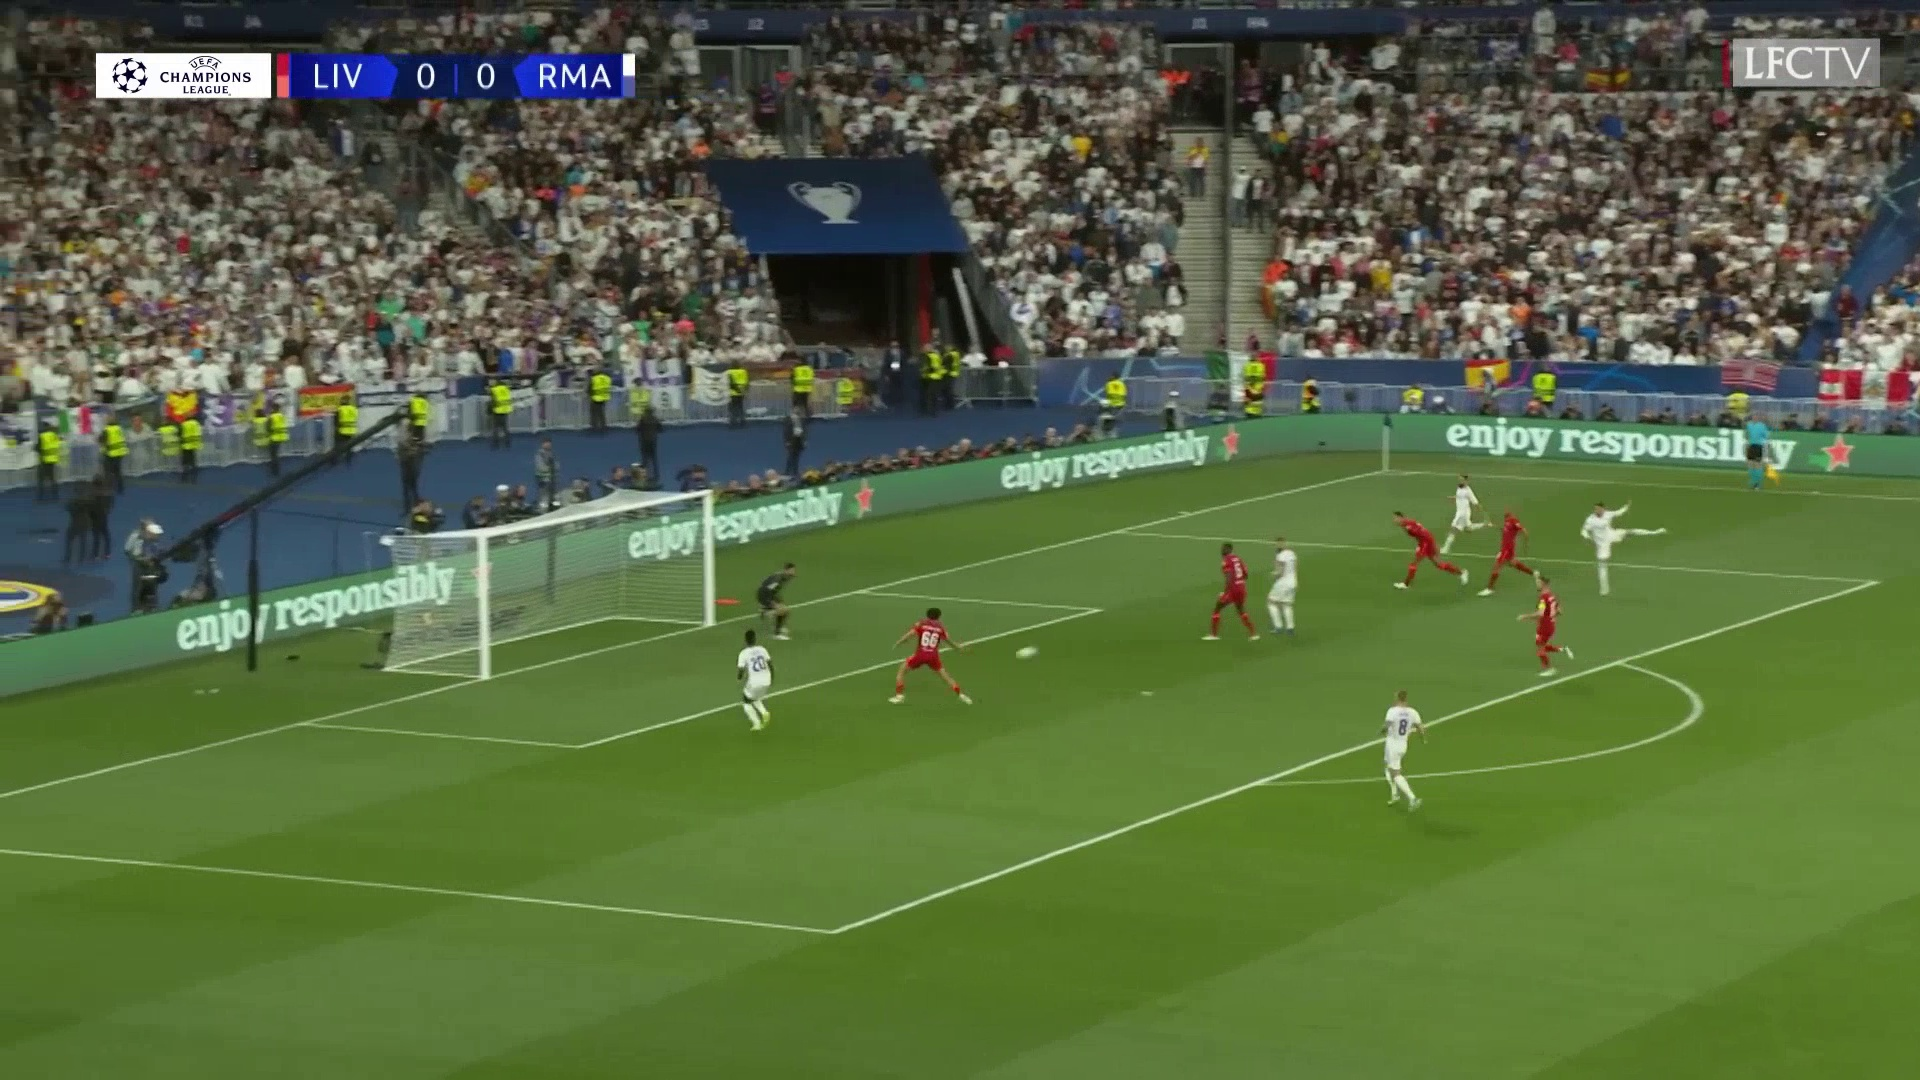ball: (1011, 640, 1041, 664)
player 1: (1579, 506, 1674, 599)
player 12: (750, 552, 817, 638)
player 13: (1379, 504, 1437, 586)
player 14: (899, 599, 976, 718)
player 15: (1489, 506, 1539, 595)
player 16: (1198, 528, 1258, 653)
player 17: (1523, 577, 1560, 692)
player 2: (1437, 476, 1500, 547)
player 3: (730, 625, 782, 731)
player 4: (1269, 539, 1315, 636)
player 5: (1384, 674, 1429, 821)
